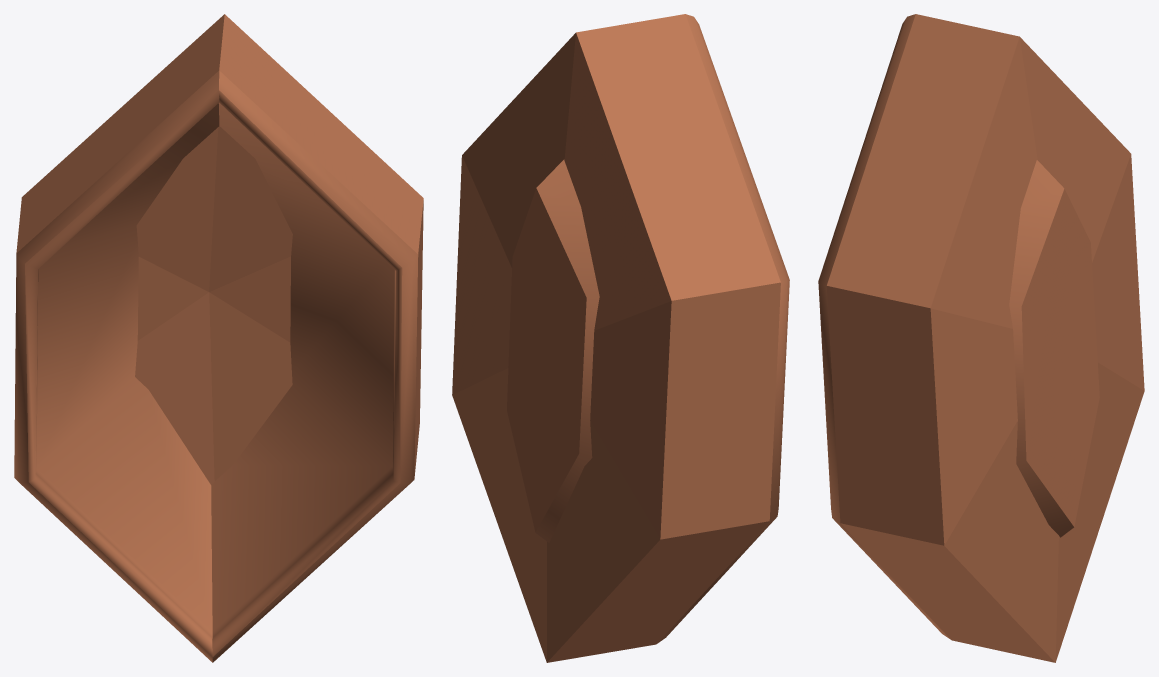
Rendered from TL2_8shapes_Hex_Classic_Metal.001 3.glb.
The picture shows the model from 3 angles, left to right: view 1: azimuth 30°, elevation 25°; view 2: azimuth 150°, elevation 25°; view 3: azimuth 270°, elevation 25°; orthographic projection. The views are drawn at different scales.
Parts seen in each view (by area): view 1: TL2_8shapes_Hex_Classic_Metal.001; view 2: TL2_8shapes_Hex_Classic_Metal.001; view 3: TL2_8shapes_Hex_Classic_Metal.001.
Boxes of the visible parts, x1,y1,x2,y2 form: TL2_8shapes_Hex_Classic_Metal.001: (14, 14, 423, 662); TL2_8shapes_Hex_Classic_Metal.001: (452, 14, 789, 662); TL2_8shapes_Hex_Classic_Metal.001: (818, 14, 1144, 662).
Size of the model in its own units: 0.4785 by 0.769 by 0.363.
